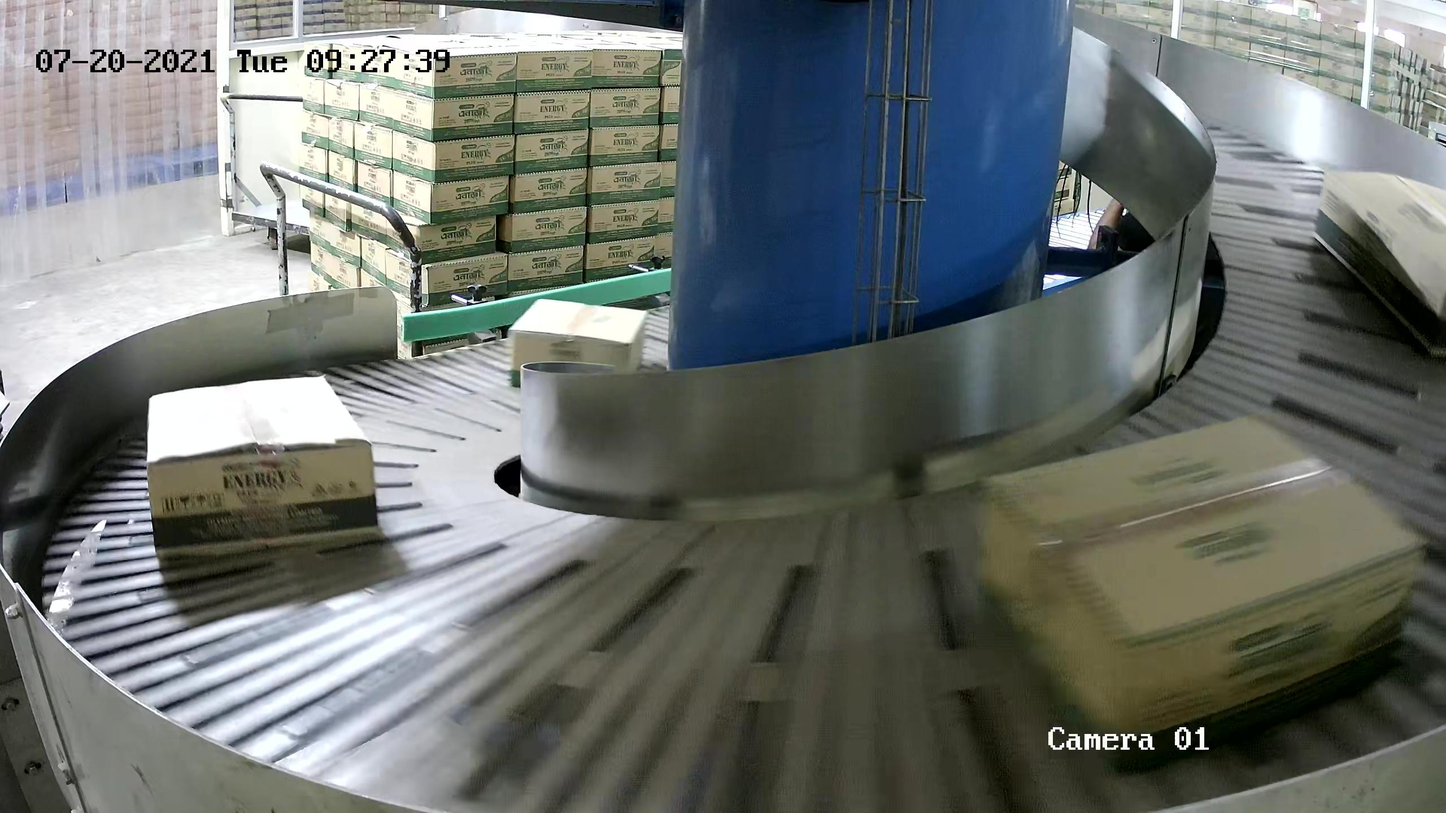Box: (972, 411, 1430, 784), (144, 371, 384, 563), (1309, 168, 1446, 360), (508, 298, 648, 390)
